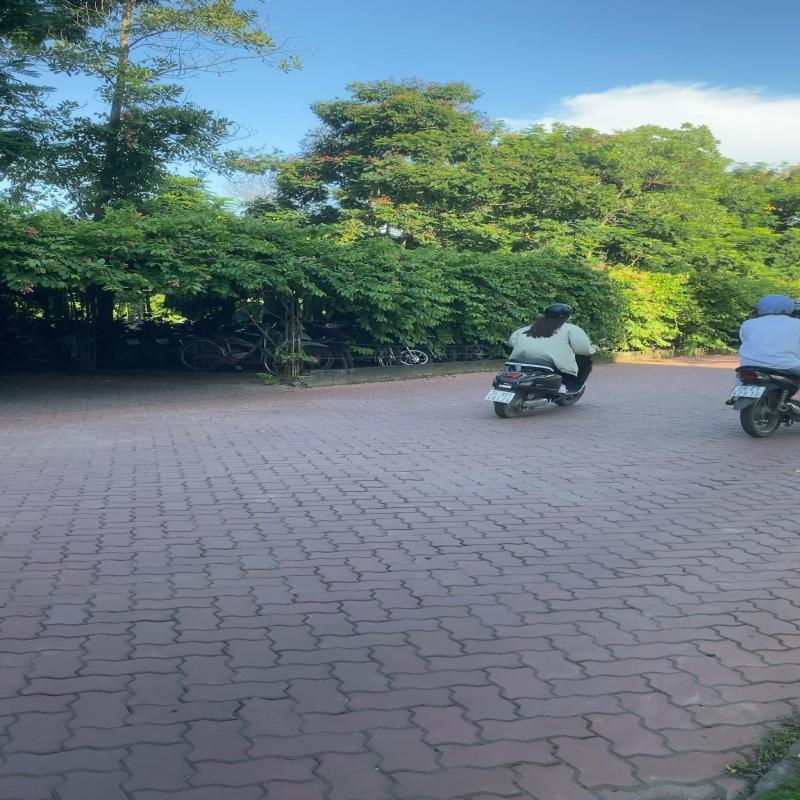helmet: (758, 294, 794, 316), (541, 303, 576, 321), (789, 298, 800, 314)
licenseplate: (730, 384, 766, 400), (484, 390, 516, 404)
motorcyclist: (481, 302, 612, 419), (722, 292, 800, 438)
